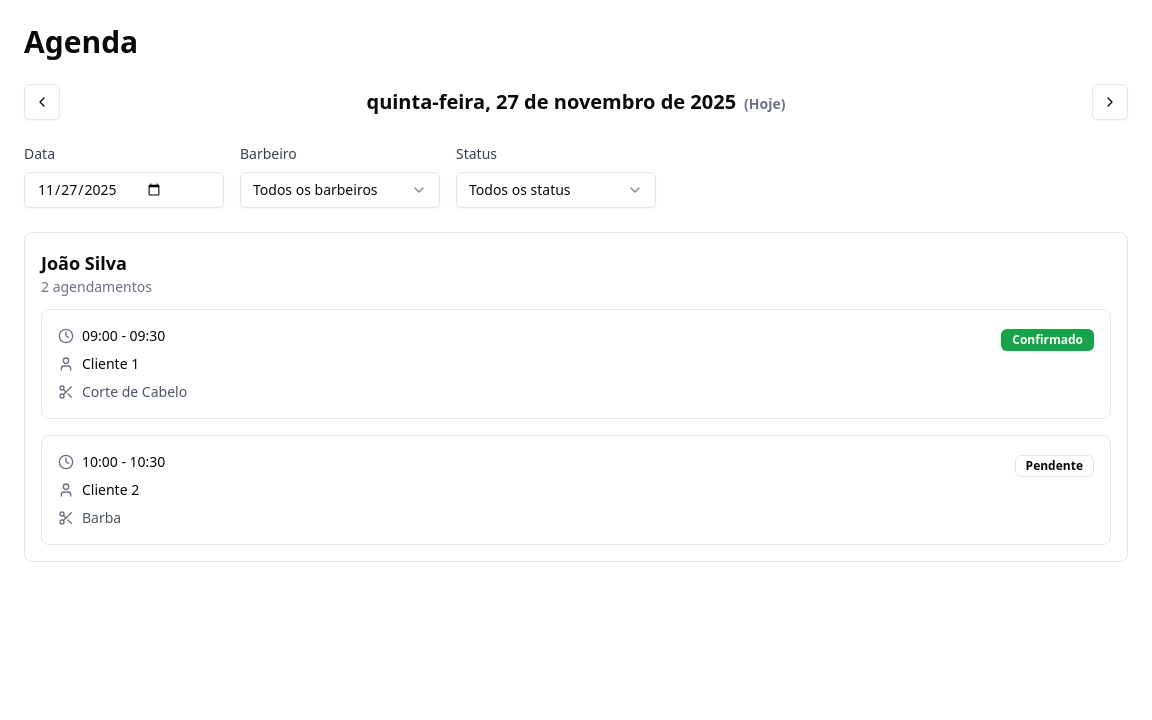
Scenario: SchedulePage › should render status options in filter
Click the dropdown labelled "Todos os status". click: (556, 190)
box: [456,172,656,208]
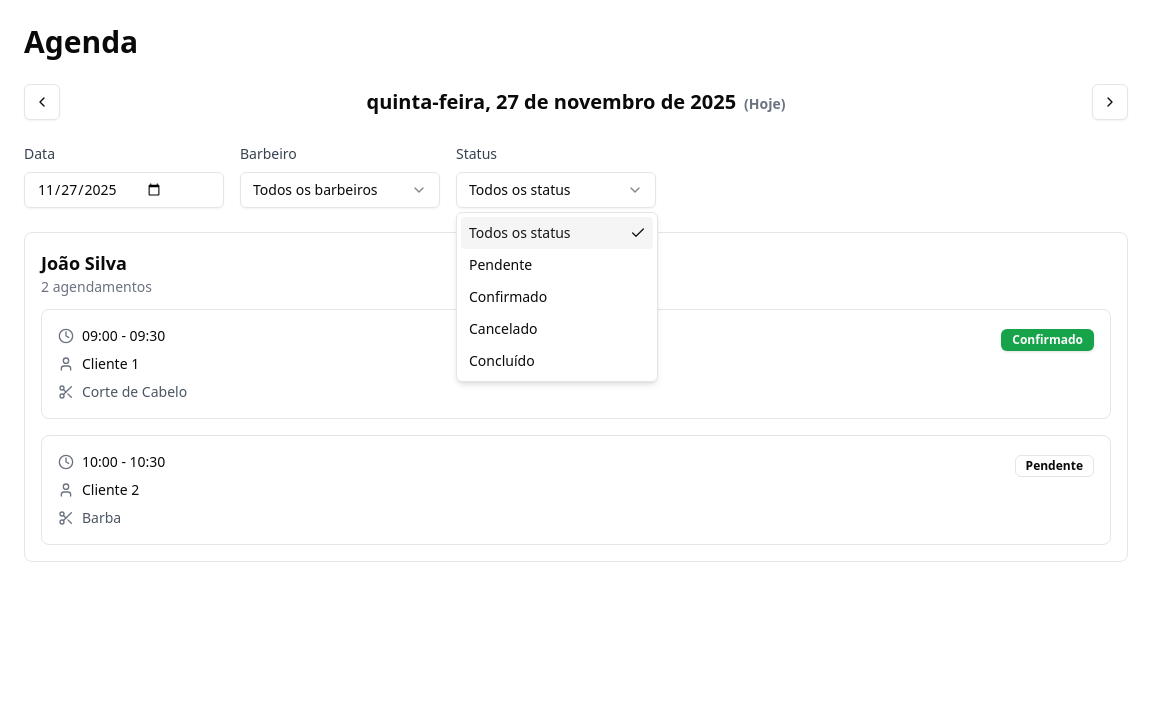
Expected: the text "Pendente" in the row of "10:30" is shown, [1026,457,1083,474]
Now the text "Cancelado" is shown, box [469,319,538,339]
Now the text "Concluído" is shown, box [469,351,535,371]
